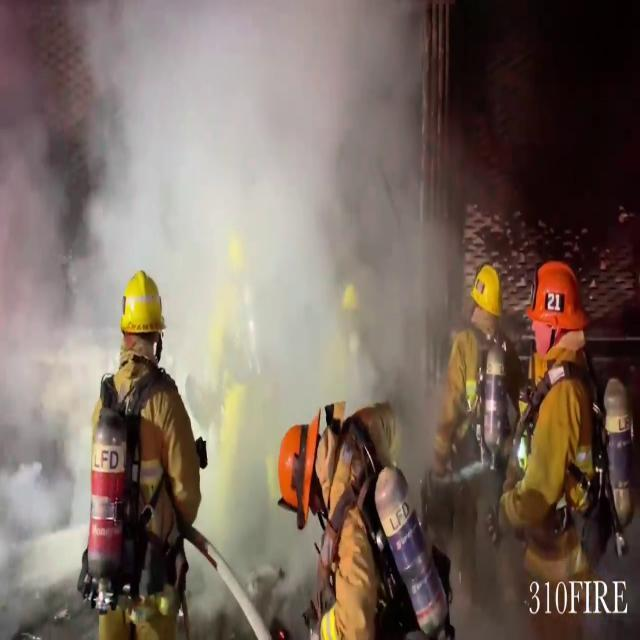Smoke: (0, 0, 472, 621)
